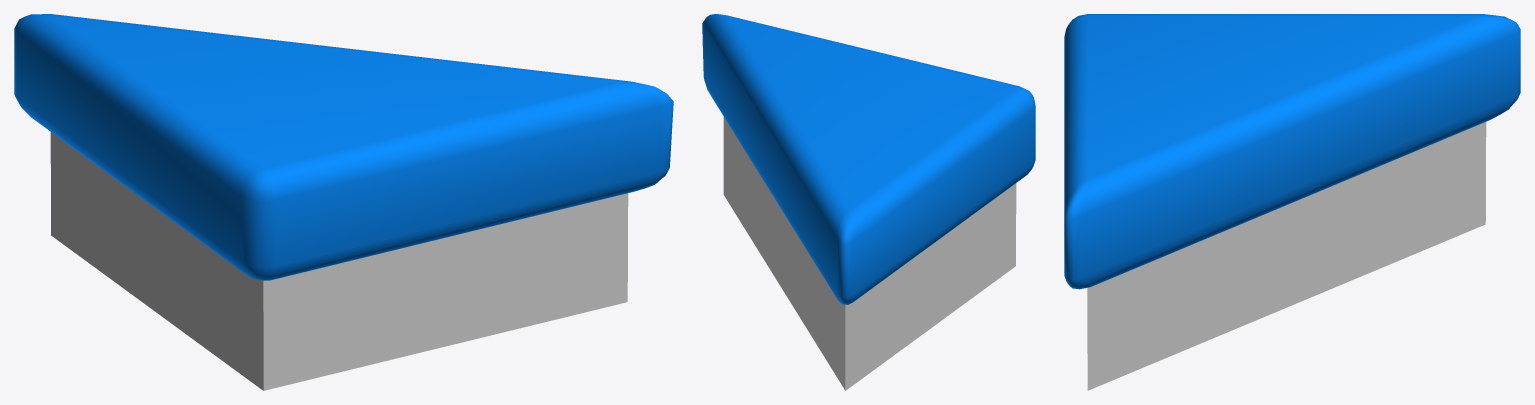
Rendered from Base 1 Triangle Small White Blue.glb.
The picture shows the model from 3 angles, left to right: view 1: azimuth 30°, elevation 25°; view 2: azimuth 150°, elevation 25°; view 3: azimuth 270°, elevation 25°; orthographic projection. The views are drawn at different scales.
Parts seen in each view (by area): view 1: Base_1_Triangle_Small_White_; view 2: Base_1_Triangle_Small_White_; view 3: Base_1_Triangle_Small_White_.
Part boxes in pixels (box(x1,y1,x2,y2)): Base_1_Triangle_Small_White_: box(14, 14, 673, 390); Base_1_Triangle_Small_White_: box(702, 14, 1035, 390); Base_1_Triangle_Small_White_: box(1064, 14, 1520, 390).
Size of the model in its own units: 3.97 by 2 by 3.97.
